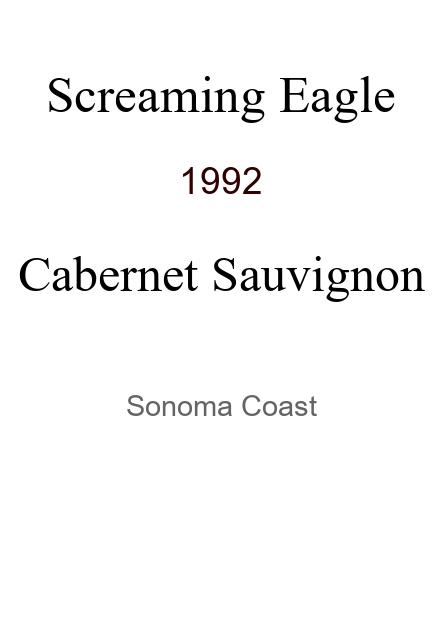brand: (46, 66, 396, 113)
region: (126, 389, 317, 410)
variety: (18, 246, 425, 292)
vintage: (179, 160, 263, 187)
